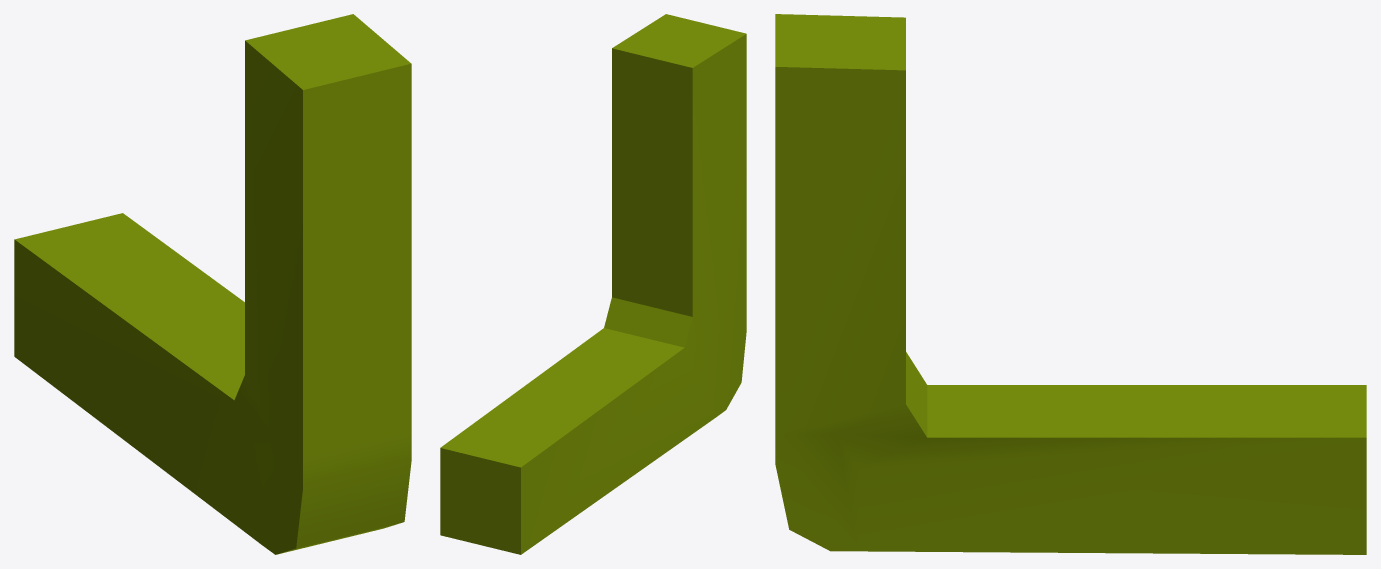
The model's file is SM_Attach.fbx.
3 renders of one model, left to right at view 1: azimuth 30°, elevation 25°; view 2: azimuth 150°, elevation 25°; view 3: azimuth 270°, elevation 25°, orthographic. The views are drawn at different scales.
Parts seen in each view (by area): view 1: Attach; view 2: Attach; view 3: Attach.
Part boxes in pixels (bbox=[...]): Attach: bbox=[14, 14, 411, 554]; Attach: bbox=[440, 14, 746, 554]; Attach: bbox=[775, 14, 1366, 554].
Size of the model in its own units: 6.3 by 25.22 by 27.89.
